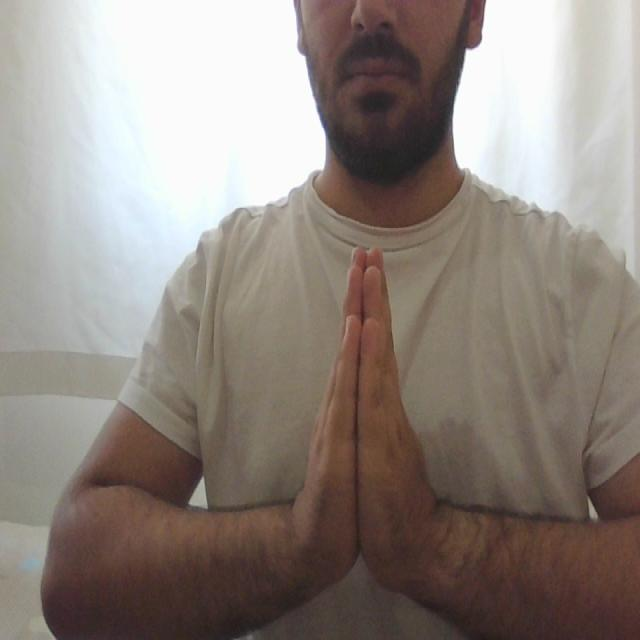Ozur-Dilemek: (286, 242, 444, 613)
